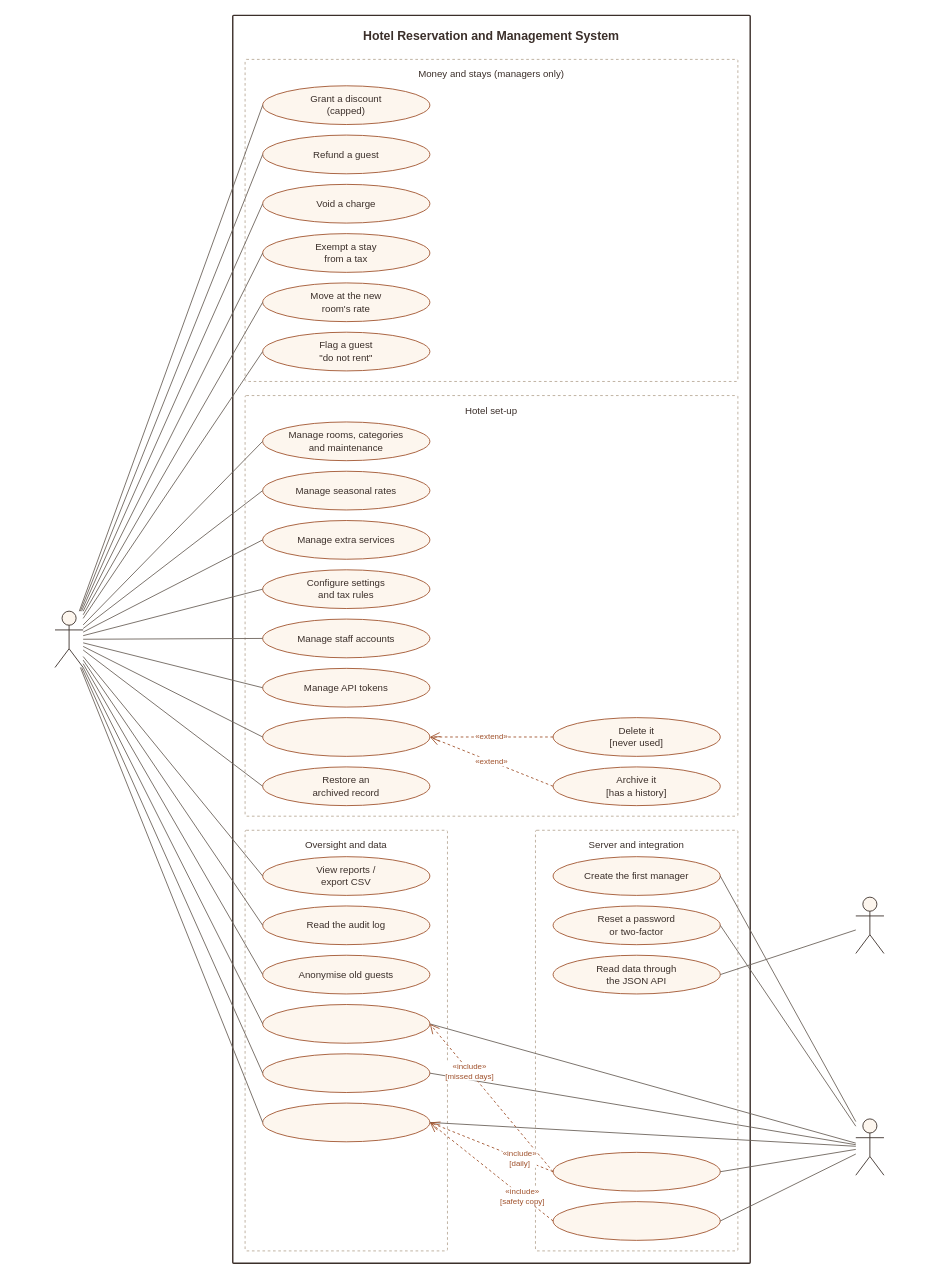
This 925x1280 diagram has some shape labels left out. The centre of each missing label's shape, as x and y in pixels:
"Close a day (night audit)" goes at (346,1023).
"External program «system» API client" goes at (869,924).
"Make a backup" goes at (346,1122).
"Manager also every front-desk use case" goes at (68,638).
"Remove a record" goes at (346,736).
"Restore a backup" goes at (636,1220).
"Server operator (command line)" goes at (869,1146).
"Start the application" goes at (636,1171).
"Verify the audit chain" goes at (346,1073).
